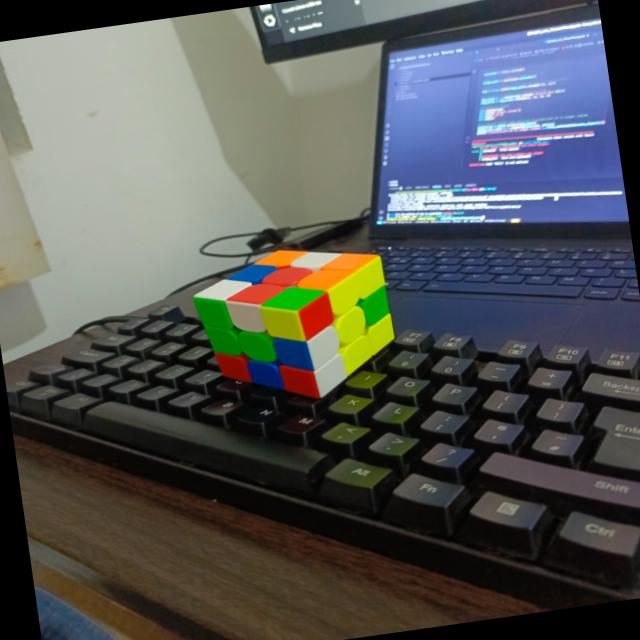rubik: (186, 233, 404, 414)
